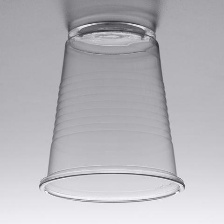glass: (35, 11, 190, 207)
